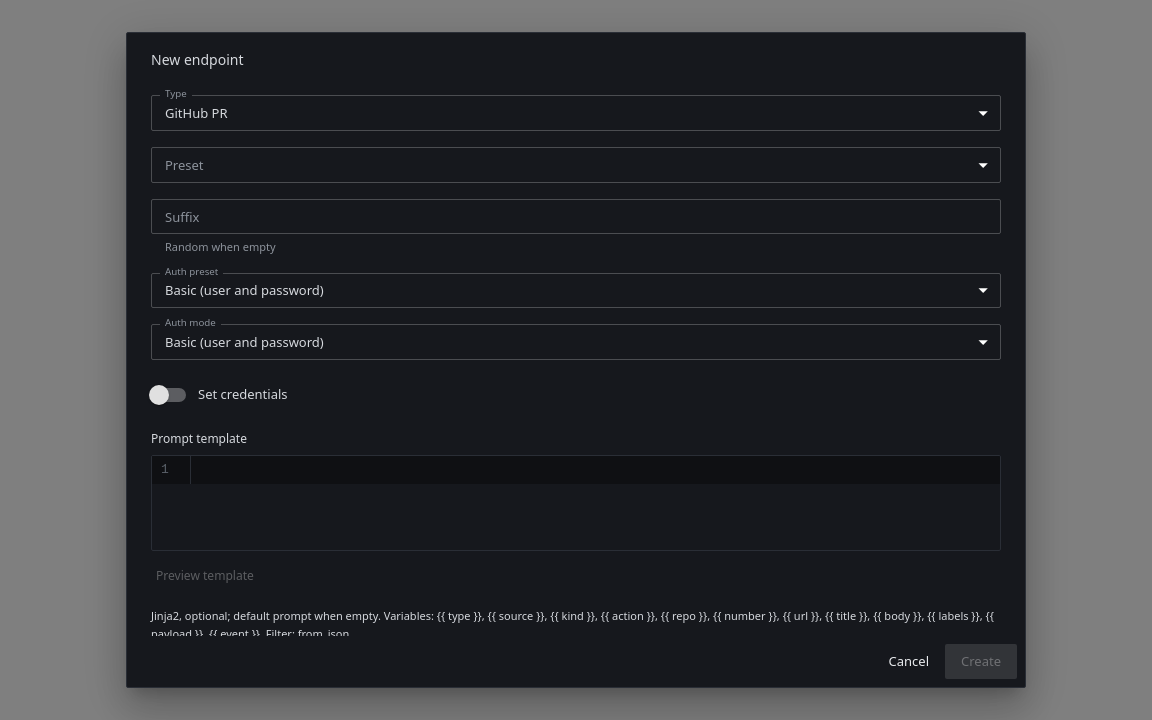
Test case: create › create rejects a short password and a bad suffix client-side
Click the dropdown named "Preset": (576, 165) [151,147,1001,183]
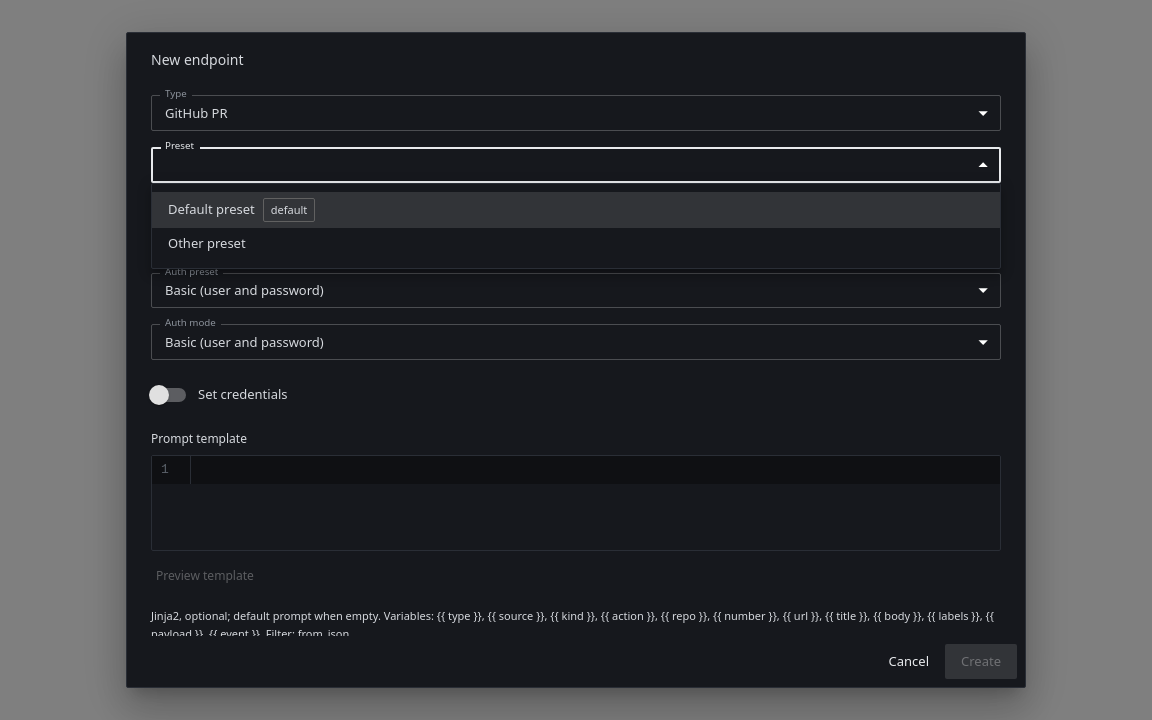
Click the option "Default preset default": (211, 209) [152,192,1000,228]
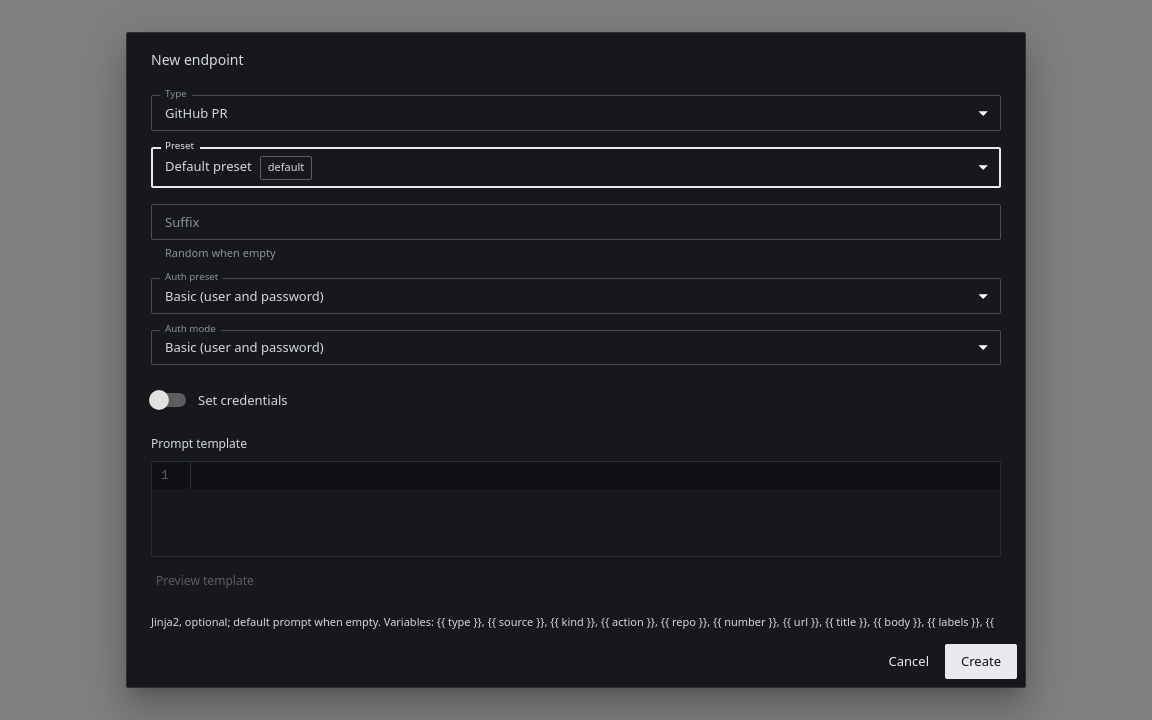
In the field labelled "Suffix": (576, 222) [151,204,1001,240], type "bad suffix!"
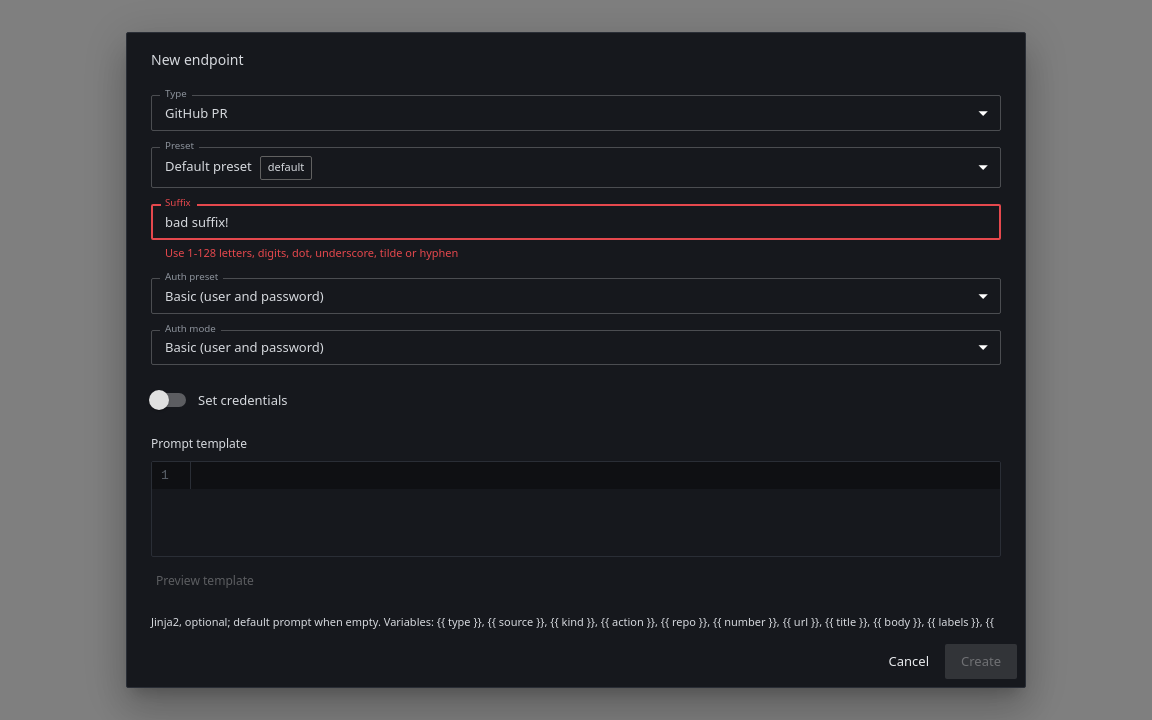
Expected: the text "Use 1-128 letters, digits, dot, underscore, tilde or hyphen" is shown, [165,245,458,260]
Expected: the button "Create" is disabled, [945,644,1017,679]
Clear the field labelled "Suffix": (576, 222) [151,204,1001,240]
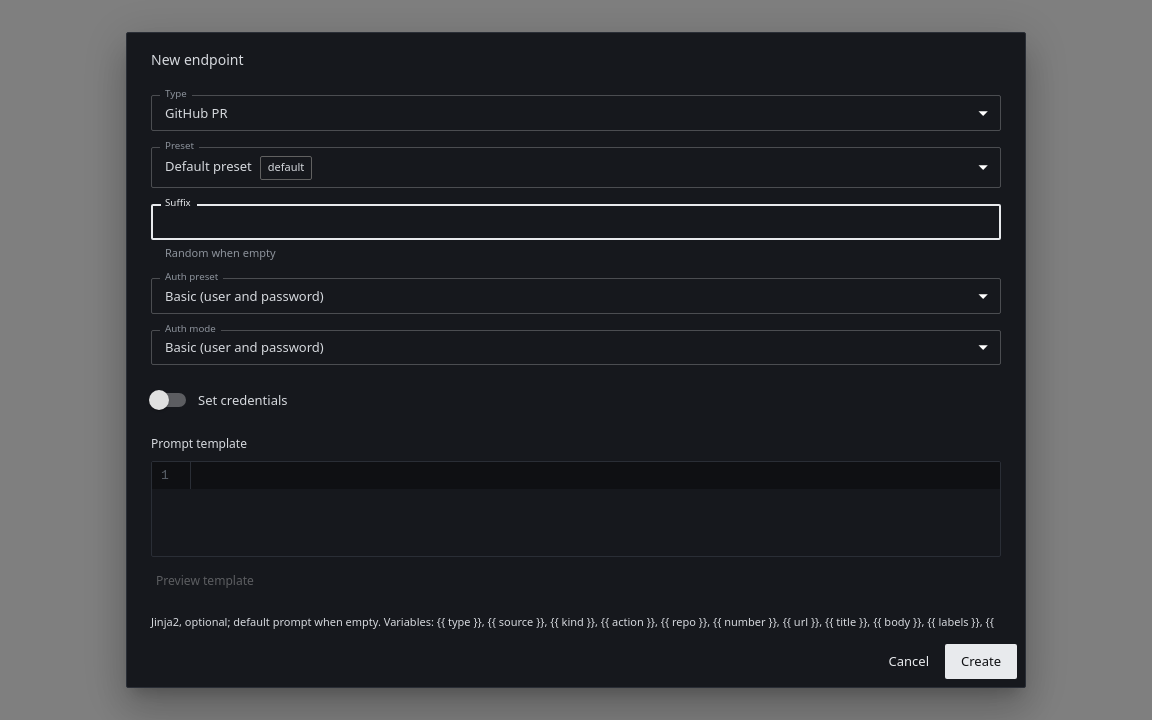
Click the switch labelled "Set credentials": (218, 400) [149,390,288,410]
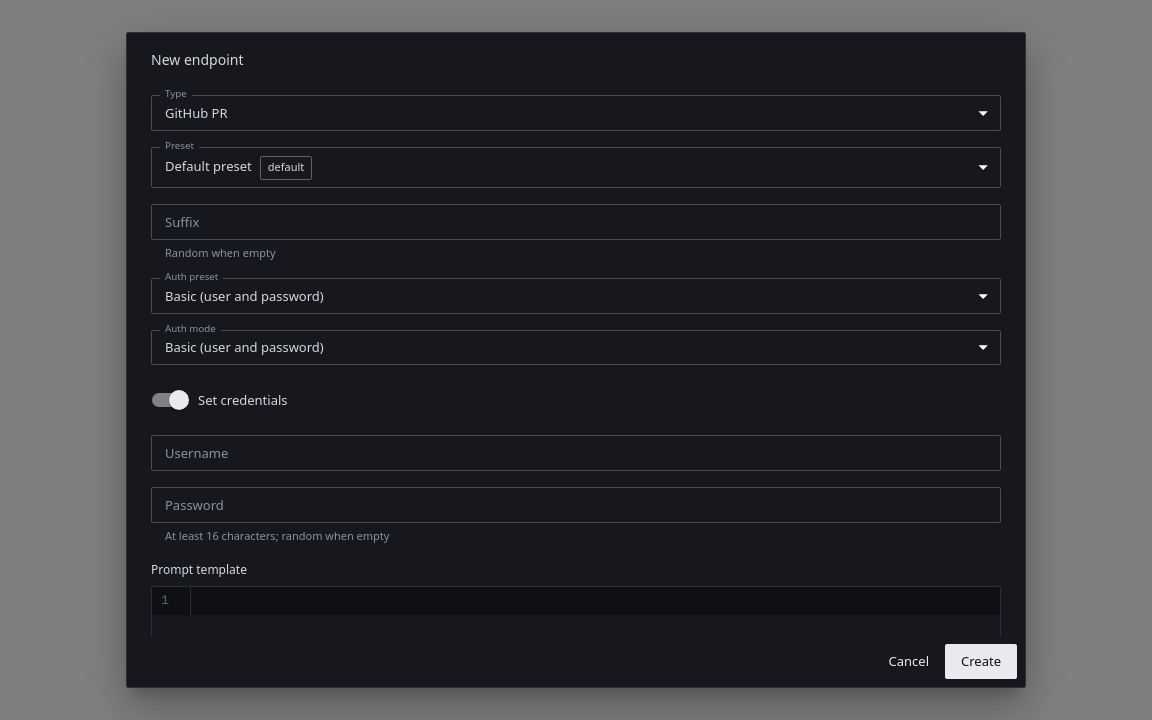
In the field labelled "Username": (576, 453) [151,435,1001,471], type "bob"
In the password field labelled "Password": (576, 505) [151,487,1001,523], type "short"
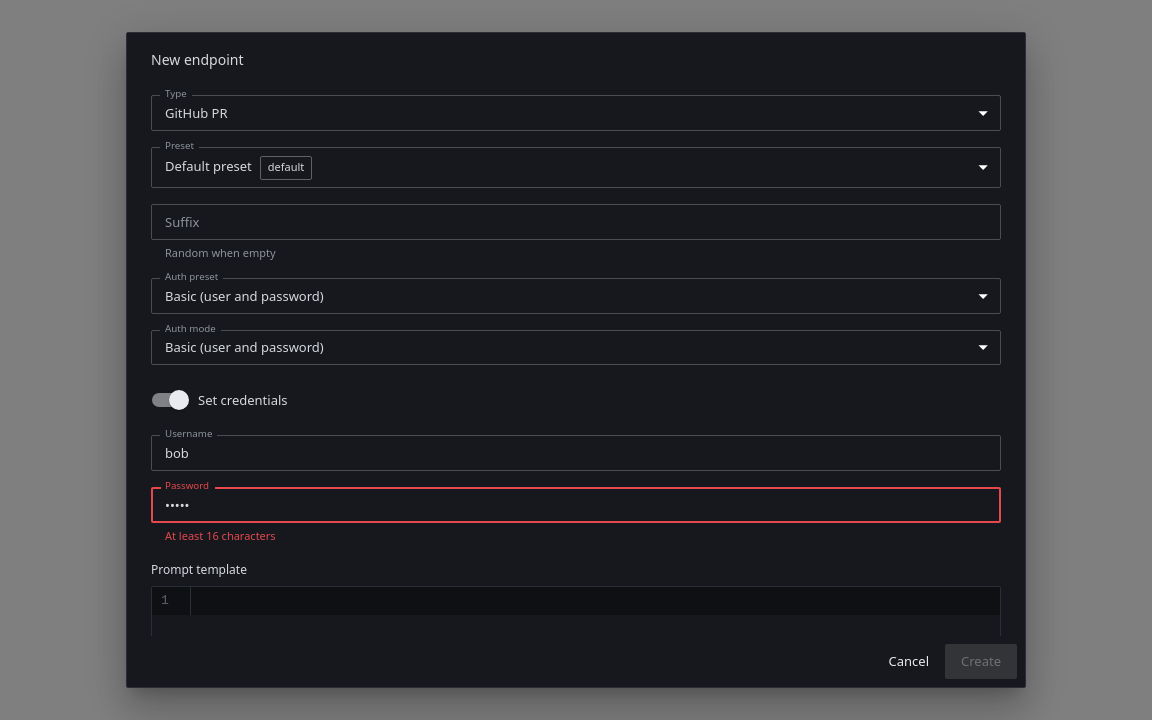
Expected: the text "At least 16 characters" is shown, [165,528,276,543]
Expected: the button "Create" is disabled, [945,644,1017,679]
